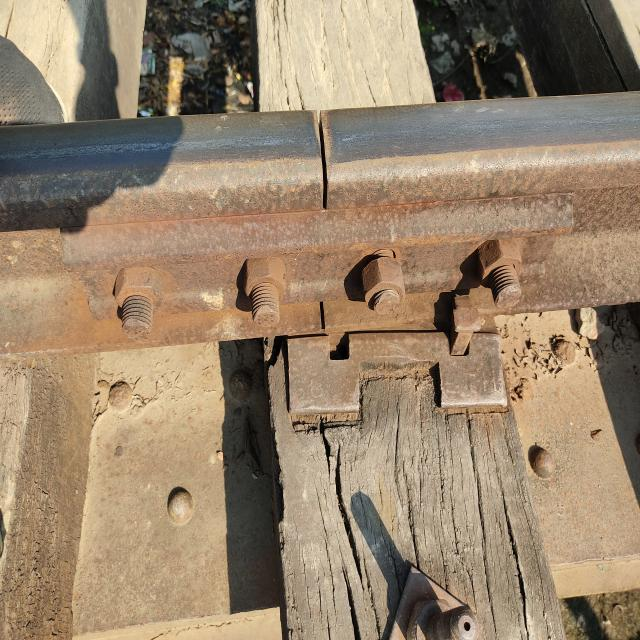Faults: (296, 100, 346, 226), (440, 294, 483, 369), (318, 324, 360, 376)
